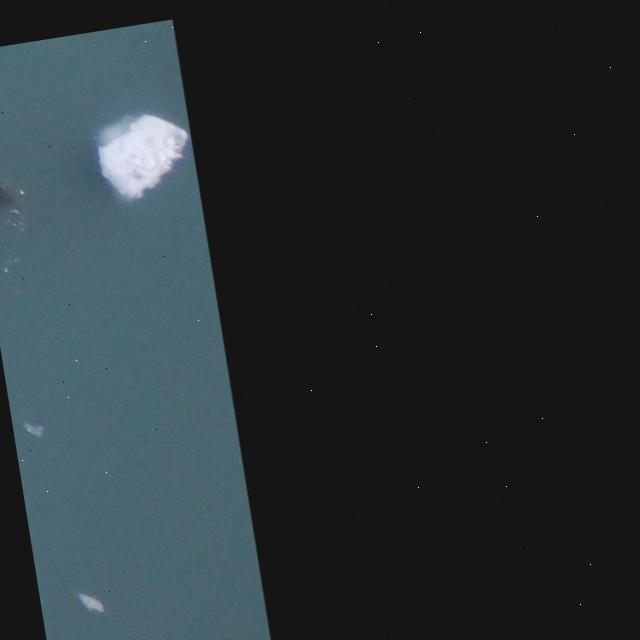seal: (0, 179, 20, 210)
